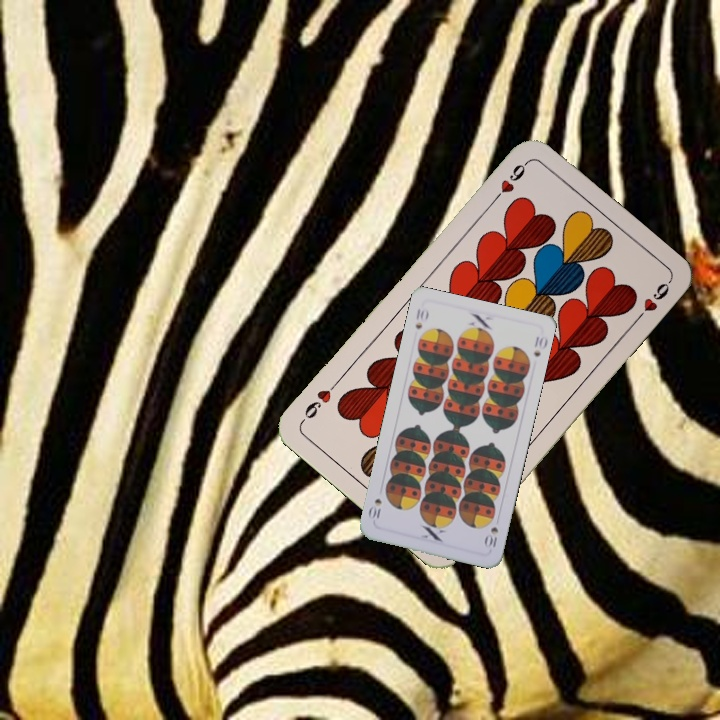H9: (487, 157, 531, 206)
S10: (480, 523, 501, 550), (411, 304, 431, 332)
